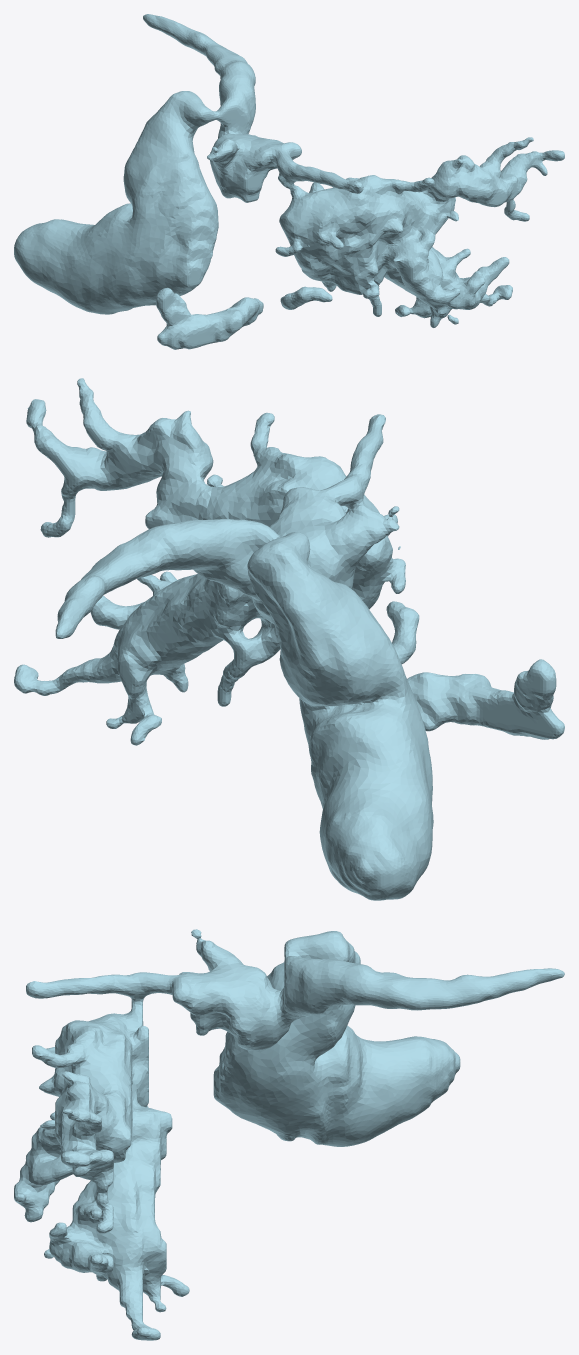
File: biliarysystem.obj
3 renders of one model, top to bottom at view 1: azimuth 30°, elevation 25°; view 2: azimuth 150°, elevation 25°; view 3: azimuth 270°, elevation 25°, orthographic. The views are drawn at different scales.
Parts seen in each view (by area): view 1: grp1; view 2: grp1; view 3: grp1.
Part boxes in pixels (left/top/right/bottom): grp1: left=14, top=14, right=564, bottom=349; grp1: left=14, top=378, right=564, bottom=900; grp1: left=14, top=929, right=564, bottom=1340.
Bounding box in the file's own units: 122 × 64.7 × 117.
